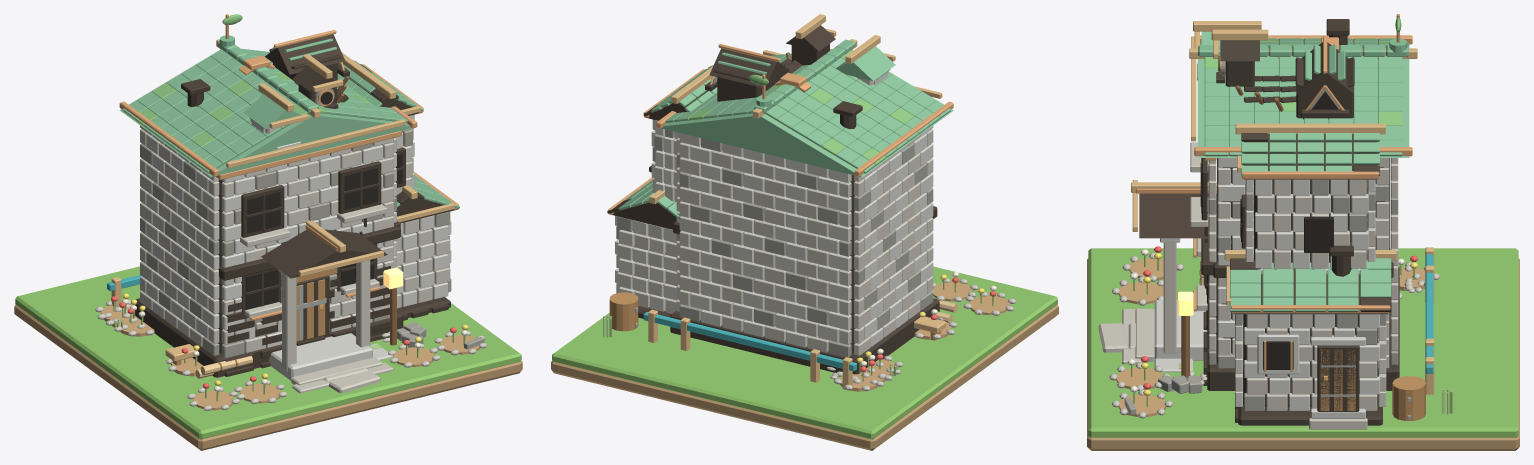
File: stone_house_l05_damaged.glb
The picture shows the model from 3 angles, left to right: view 1: azimuth 30°, elevation 25°; view 2: azimuth 150°, elevation 25°; view 3: azimuth 270°, elevation 25°; orthographic projection. The views are drawn at different scales.
Parts seen in each view (by area): view 1: stone_house_component_pilot_grass_tile.002, stone_house_component_pilot_earth_tile.002, pilot_stone_house_l05_roof_gable_roof.001, pilot_stone_house_l05_porch_canopy_gable_roof.001, pilot_stone_house_l05_porch_landing.001, pilot_stone_house_l05_spec_stone_block_medium_medium_foundat, pilot_stone_house_l05_porch_stone_column_-1.001, pilot_stone_house_l05_side_dormer_green_gable.001, pilot_stone_house_l05_roof_roof_front_trim.001, pilot_stone_house_l05_porch_stone_column_1.001, pilot_stone_house_l05_second_storey_second_floor_front_belt., pilot_stone_house_l05_second_storey_copper_top_cornice.001 (+20 smaller); view 2: stone_house_component_pilot_grass_tile.002, stone_house_component_pilot_earth_tile.002, pilot_stone_house_l05_roof_gable_roof.001, pilot_stone_house_l05_spec_stone_block_medium_medium_foundat, pilot_stone_house_l05_yard_fence_rail.001, pilot_stone_house_l05_side_dormer_green_gable.001, pilot_stone_house_l05_roof_dormer_gable_roof.001, pilot_stone_house_l05_yard_barrel_barrel_body.001, pilot_stone_house_l05_right_annex_roof_gable_roof.001, pilot_stone_house_l05_side_dormer_stone_cheek.001, pilot_stone_house_l05_roof_eave_-1.001, pilot_stone_house_l05_round_attic_window_little_green_roof_g (+4 smaller); view 3: stone_house_component_pilot_grass_tile.002, stone_house_component_pilot_earth_tile.002, pilot_stone_house_l05_porch_canopy_gable_roof.001, pilot_stone_house_l05_annex_entry_door.001, pilot_stone_house_l05_roof_gable_roof.001, pilot_stone_house_l05_porch_landing.001, pilot_stone_house_l05_porch_stone_column_1.001, pilot_stone_house_l05_upper_annex_roof_roof_ridge.001, pilot_stone_house_l05_right_annex_foundation_stone_block_low, pilot_stone_house_l05_yard_barrel_barrel_body.001, pilot_stone_house_l05_spec_stone_block_medium_medium_foundat, pilot_stone_house_l05_side_dormer_green_gable.001 (+48 smaller).
Part boxes in pixels (left/top/right/bottom): stone_house_component_pilot_grass_tile.002: left=15, top=266, right=521, bottom=439; stone_house_component_pilot_earth_tile.002: left=14, top=304, right=522, bottom=450; pilot_stone_house_l05_roof_gable_roof.001: left=119, top=49, right=417, bottom=176; pilot_stone_house_l05_porch_canopy_gable_roof.001: left=261, top=229, right=387, bottom=278; pilot_stone_house_l05_porch_landing.001: left=269, top=333, right=372, bottom=380; pilot_stone_house_l05_spec_stone_block_medium_medium_foundat: left=134, top=298, right=403, bottom=377; pilot_stone_house_l05_porch_stone_column_-1.001: left=282, top=274, right=296, bottom=371; pilot_stone_house_l05_side_dormer_green_gable.001: left=265, top=34, right=345, bottom=74; pilot_stone_house_l05_roof_roof_front_trim.001: left=226, top=119, right=405, bottom=168; pilot_stone_house_l05_porch_stone_column_1.001: left=356, top=260, right=370, bottom=347; pilot_stone_house_l05_second_storey_second_floor_front_belt.: left=219, top=224, right=400, bottom=280; pilot_stone_house_l05_second_storey_copper_top_cornice.001: left=216, top=130, right=401, bottom=179; stone_house_component_pilot_grass_tile.002: left=552, top=266, right=1057, bottom=439; stone_house_component_pilot_earth_tile.002: left=551, top=304, right=1058, bottom=450; pilot_stone_house_l05_roof_gable_roof.001: left=662, top=49, right=953, bottom=177; pilot_stone_house_l05_spec_stone_block_medium_medium_foundat: left=670, top=298, right=939, bottom=374; pilot_stone_house_l05_yard_fence_rail.001: left=643, top=312, right=856, bottom=371; pilot_stone_house_l05_side_dormer_green_gable.001: left=709, top=48, right=789, bottom=87; pilot_stone_house_l05_roof_dormer_gable_roof.001: left=836, top=46, right=895, bottom=81; pilot_stone_house_l05_yard_barrel_barrel_body.001: left=609, top=292, right=638, bottom=331; pilot_stone_house_l05_right_annex_roof_gable_roof.001: left=609, top=202, right=676, bottom=229; pilot_stone_house_l05_side_dormer_stone_cheek.001: left=717, top=74, right=781, bottom=101; pilot_stone_house_l05_roof_eave_-1.001: left=854, top=101, right=953, bottom=176; pilot_stone_house_l05_round_attic_window_little_green_roof_g: left=786, top=25, right=835, bottom=51; stone_house_component_pilot_grass_tile.002: left=1088, top=248, right=1518, bottom=437; stone_house_component_pilot_earth_tile.002: left=1087, top=258, right=1519, bottom=450; pilot_stone_house_l05_porch_canopy_gable_roof.001: left=1139, top=193, right=1216, bottom=238; pilot_stone_house_l05_annex_entry_door.001: left=1317, top=345, right=1359, bottom=411; pilot_stone_house_l05_roof_gable_roof.001: left=1197, top=42, right=1409, bottom=157; pilot_stone_house_l05_porch_landing.001: left=1154, top=300, right=1207, bottom=360; pilot_stone_house_l05_porch_stone_column_1.001: left=1163, top=242, right=1176, bottom=353; pilot_stone_house_l05_upper_annex_roof_roof_ridge.001: left=1235, top=123, right=1385, bottom=134; pilot_stone_house_l05_right_annex_foundation_stone_block_low: left=1238, top=383, right=1382, bottom=425; pilot_stone_house_l05_yard_barrel_barrel_body.001: left=1392, top=376, right=1425, bottom=420; pilot_stone_house_l05_spec_stone_block_medium_medium_foundat: left=1207, top=266, right=1399, bottom=390; pilot_stone_house_l05_side_dormer_green_gable.001: left=1296, top=42, right=1353, bottom=93.
Size of the model in its own units: 3.6 by 3.19 by 3.6.
